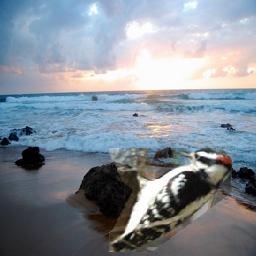Woodpecker: (110, 148, 233, 252)
